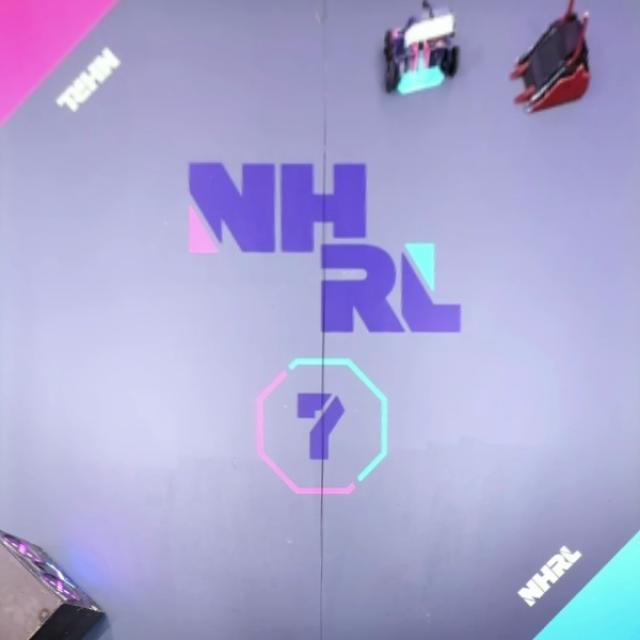housebot: (0, 526, 107, 640)
robot: (509, 0, 593, 115), (382, 0, 461, 94)
